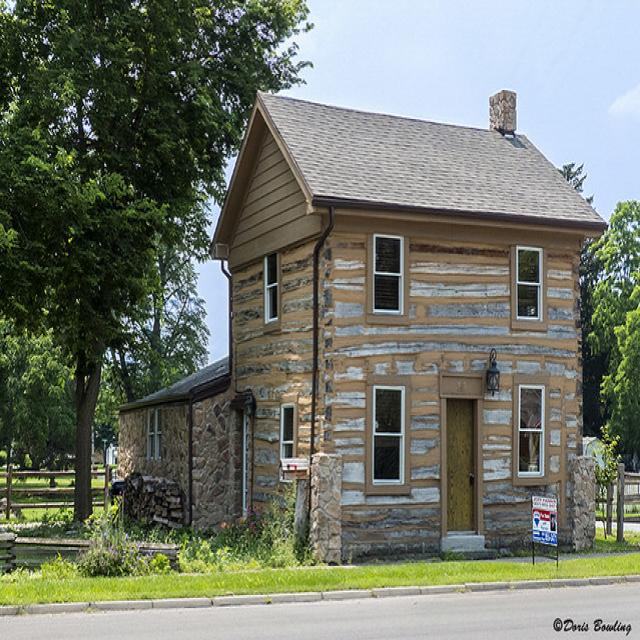Normal_building: (112, 88, 610, 561)
